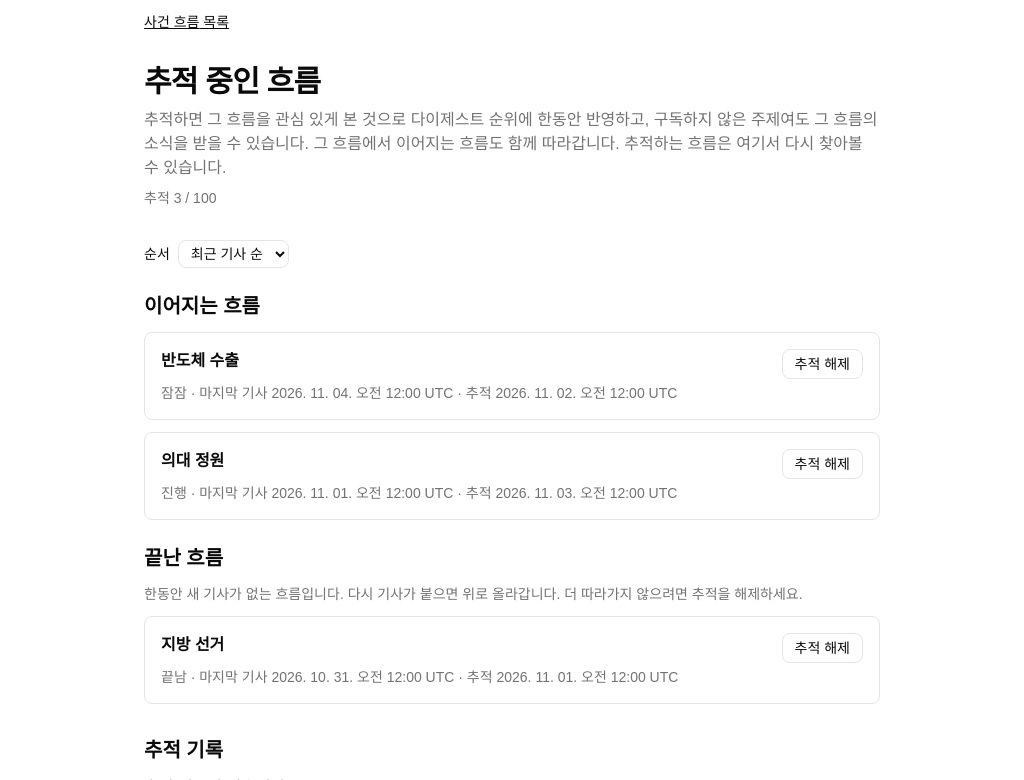
Scenario: SubscriptionsPage › 추적 해제를 누르면 그 ID 로 해제하고 다시 읽어 행이 빠진다
Click the button "추적 해제" in the row of "의대 정원" at (822, 464), box x1=782 y1=449 x2=863 y2=479
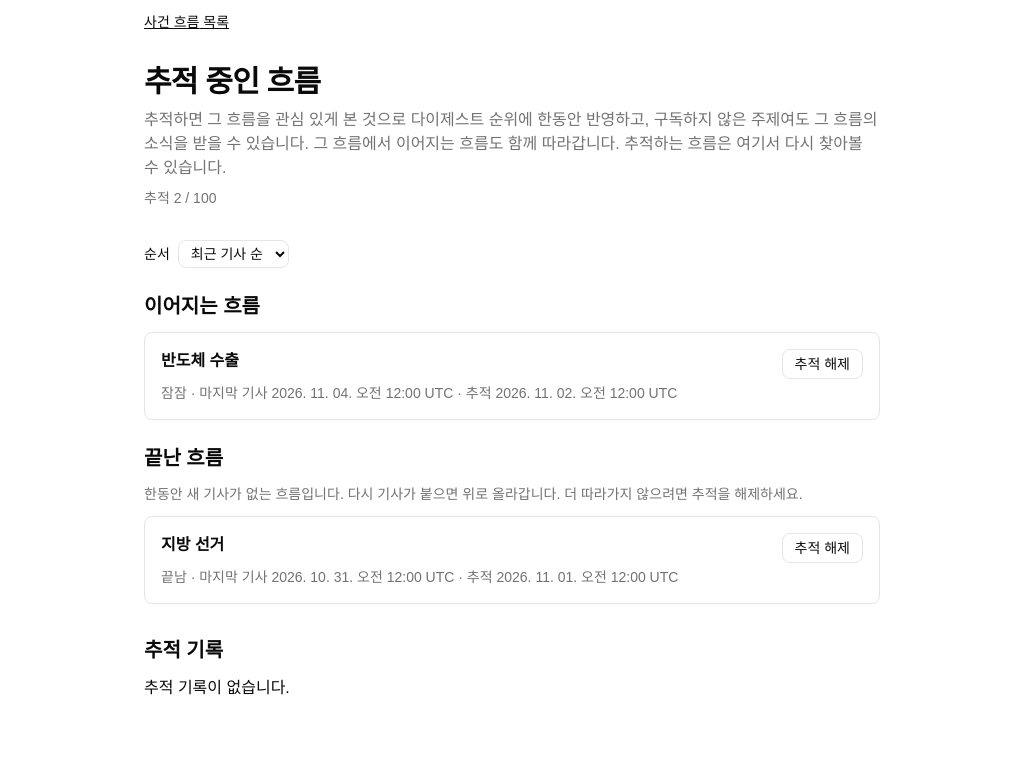
Expected: the text "추적 2 / 100" is shown, x1=144 y1=190 x2=216 y2=206
